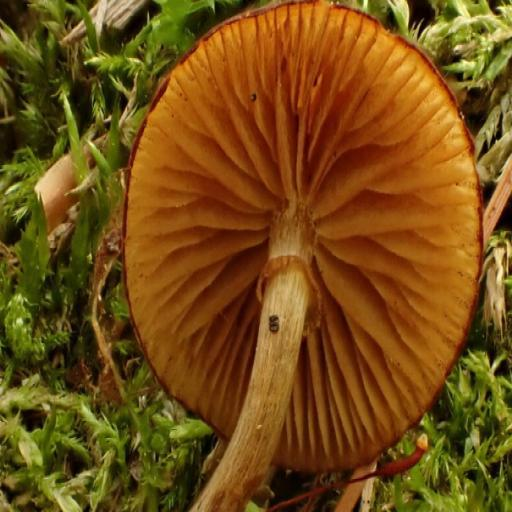mushroom: (115, 2, 488, 499)
